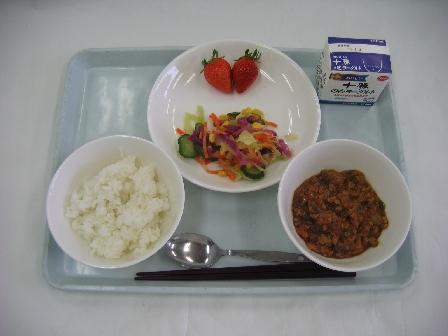Curry: (284, 156, 409, 273)
Rice: (39, 134, 182, 268)
Salad: (178, 101, 293, 191)
strawberry: (191, 39, 273, 95)
